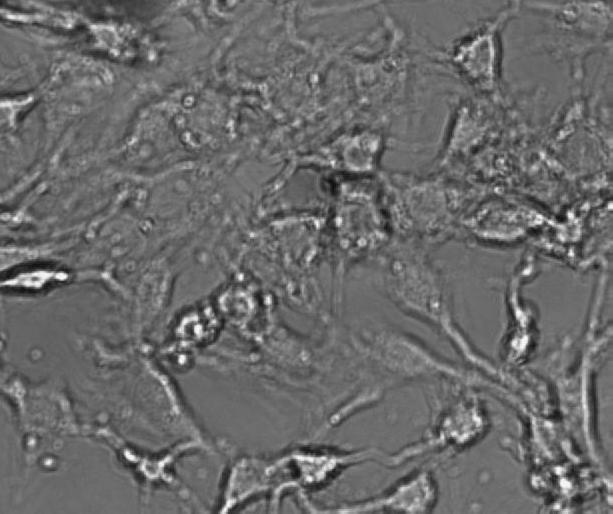Dead: (1, 258, 97, 307), (210, 276, 280, 337), (163, 299, 220, 366)
